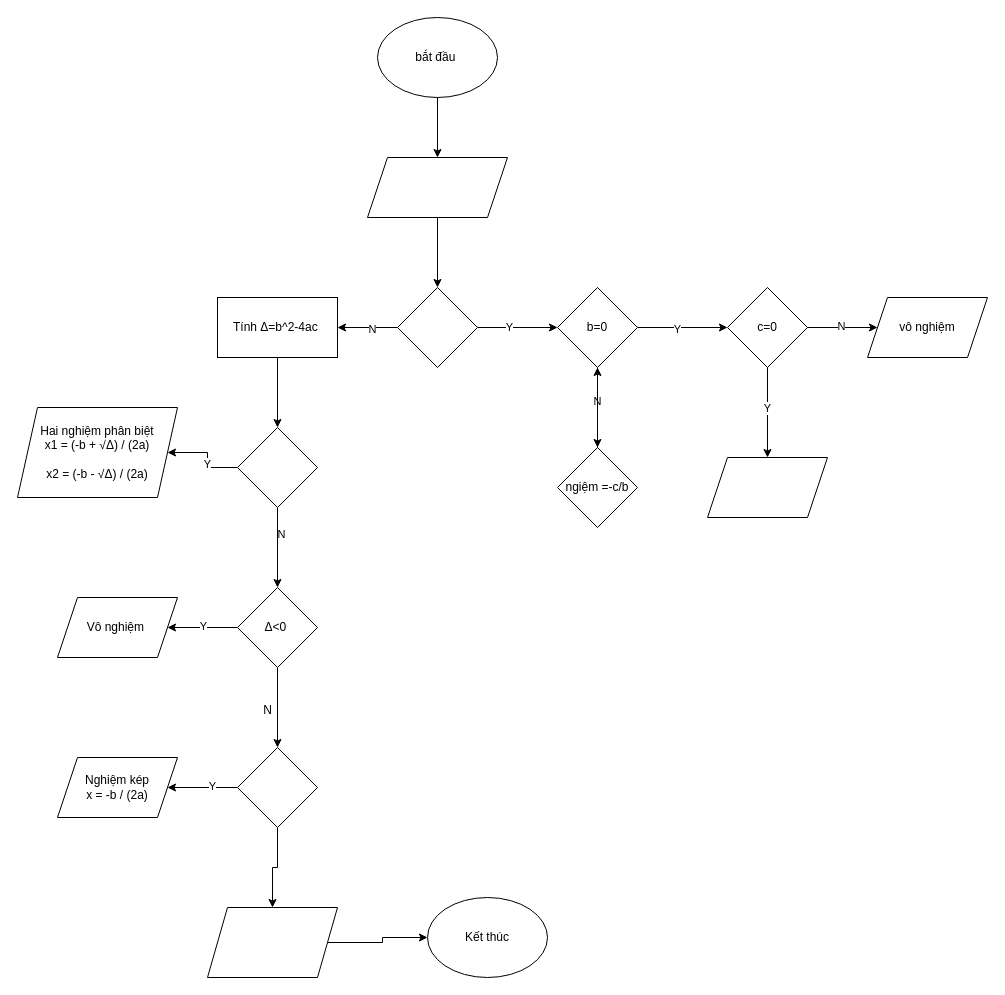
Some shapes in this 1005 by 995 pixel diagram are drawn without their labels. Here are the shapes that lost their labels. From the top down, the box of each, then its label:
(366, 156, 508, 218): nhập vào 3 số a,b,c
(396, 286, 478, 368): a=0 ?
(236, 426, 318, 508): Δ>0
(706, 456, 828, 518): vô số ngiệm
(236, 746, 318, 828): Δ=0
(206, 906, 338, 978): In nghiệm ra màn hình
